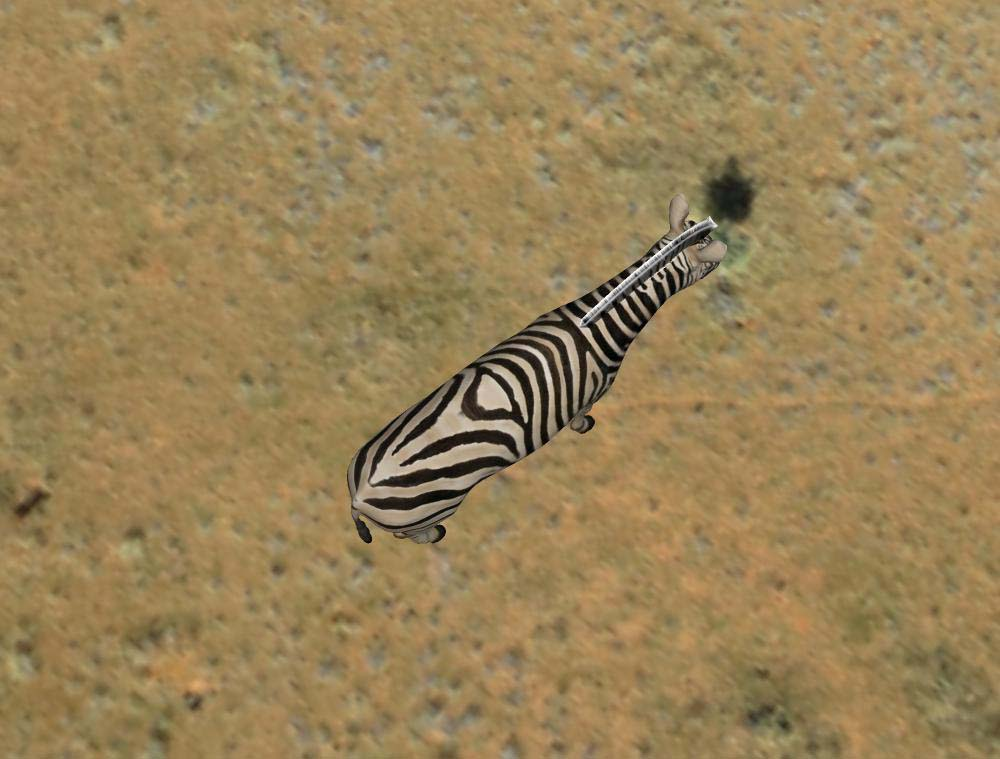zebra: (347, 189, 731, 546)
